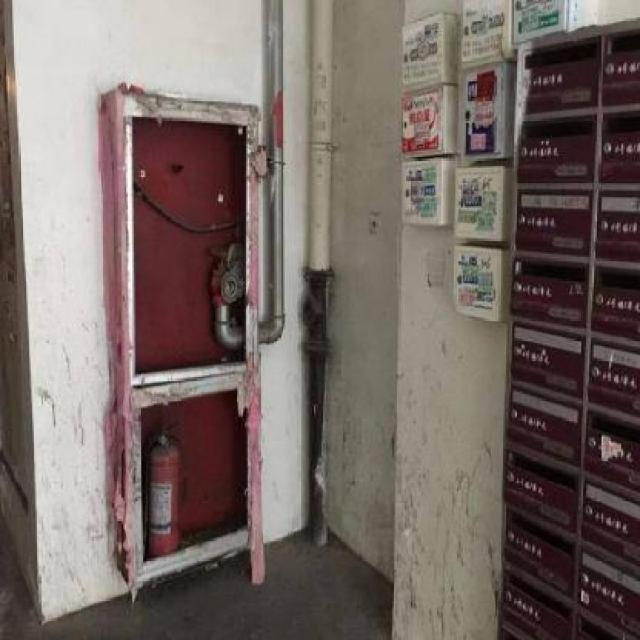firehydrant: (94, 78, 268, 597)
